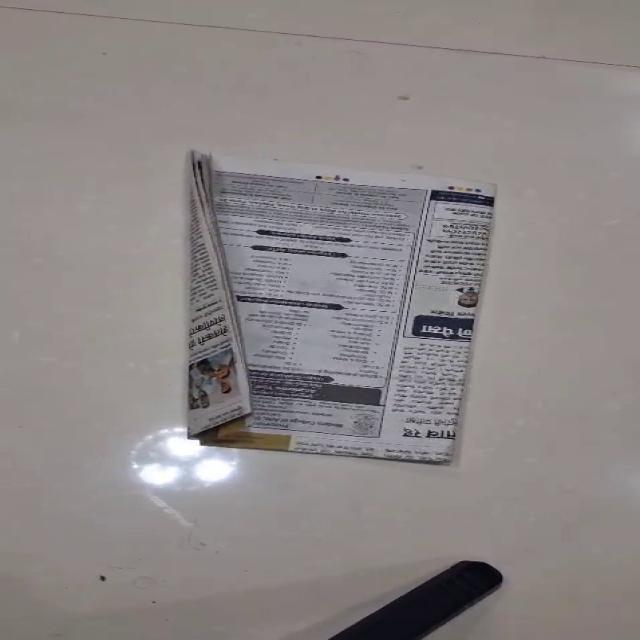paper: (185, 150, 497, 465)
